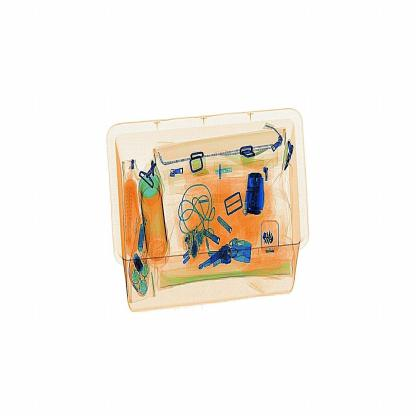scissors: (238, 167, 269, 224)
